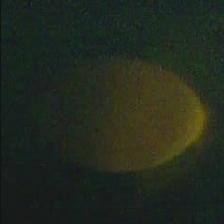fertile: (54, 58, 206, 174)
